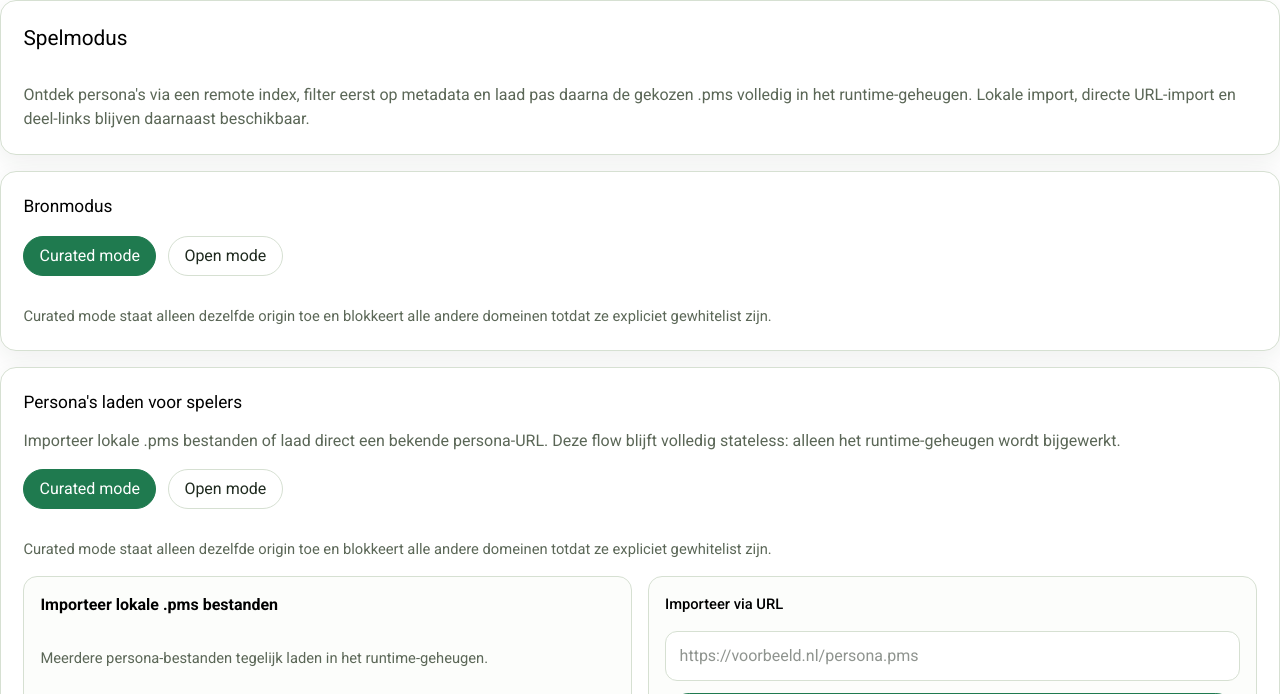
Test: GameModePage remote discovery › laadt remote index, filtert metadata en haalt pas na selectie de persona op
This screenshot has width=1280, height=694.
Click the button "Open mode" below "Bronmodus". click: x=225, y=256
box: x1=168 y1=236 x2=282 y2=276
(page scrolled)
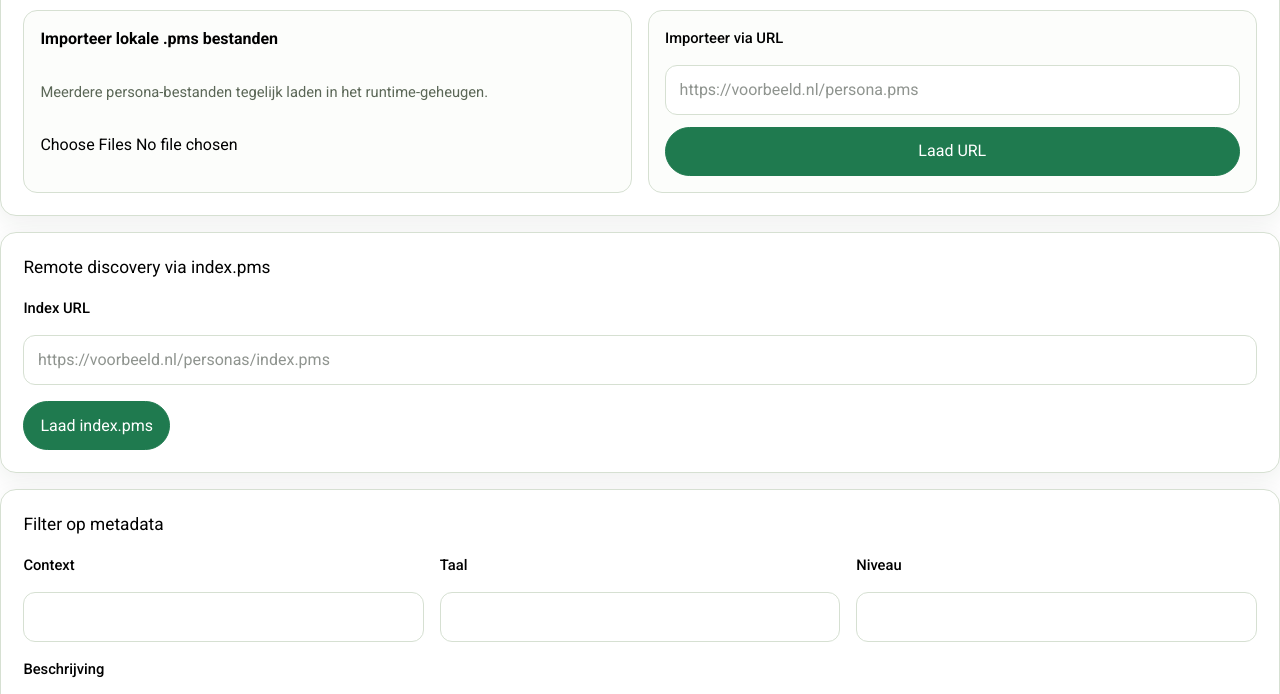
Type "https://partner.example/index.pms" into the field labelled "Index URL". click: x=640, y=360
box: x1=23 y1=335 x2=1257 y2=385
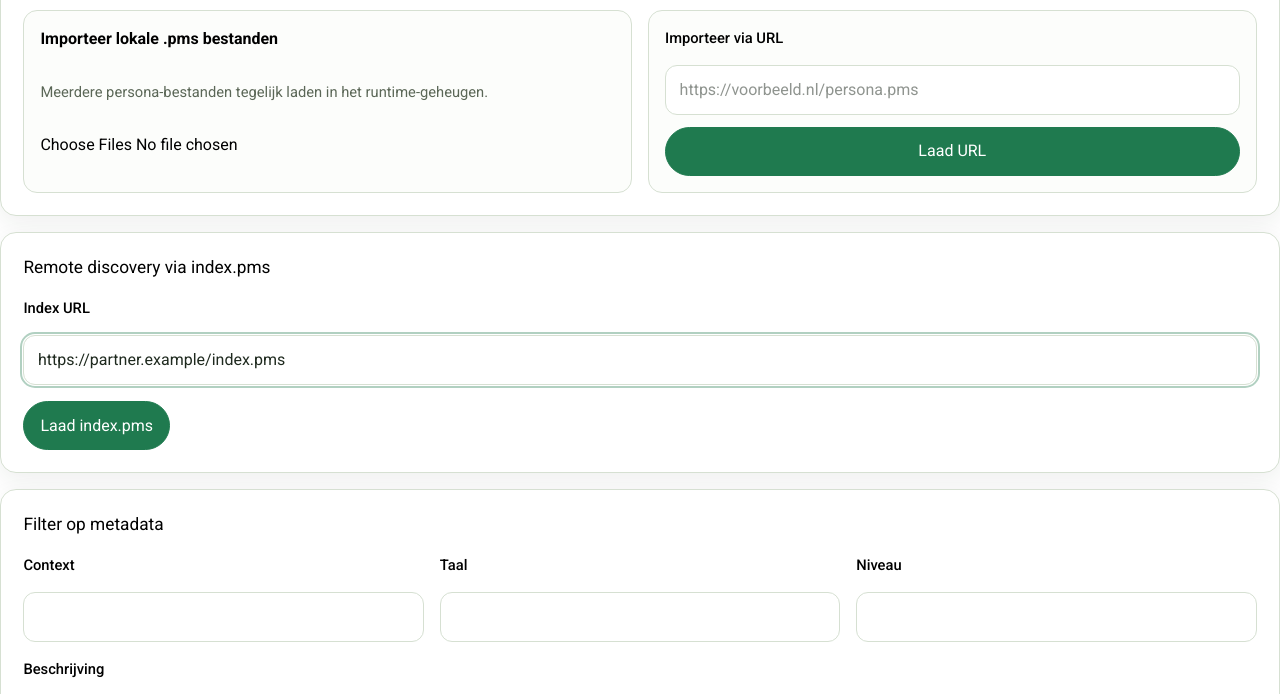
Click the button "Laad index.pms". click: x=97, y=426
box: x1=23 y1=401 x2=170 y2=450
(page scrolled)
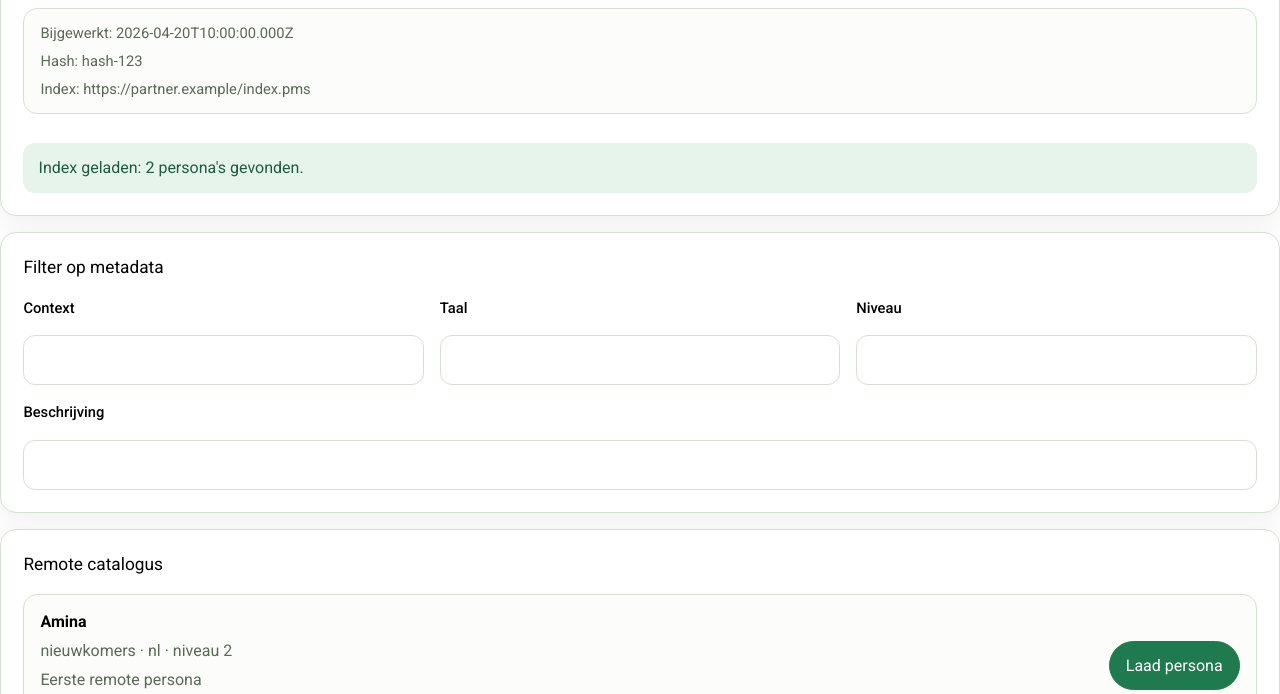
expect the text "Index geladen: 2 persona's gevonden." is shown: met, box x1=23 y1=143 x2=1257 y2=193
Type "nieuwkomers" into the field labelled "Context". click: x=224, y=360
box: x1=23 y1=336 x2=424 y2=386
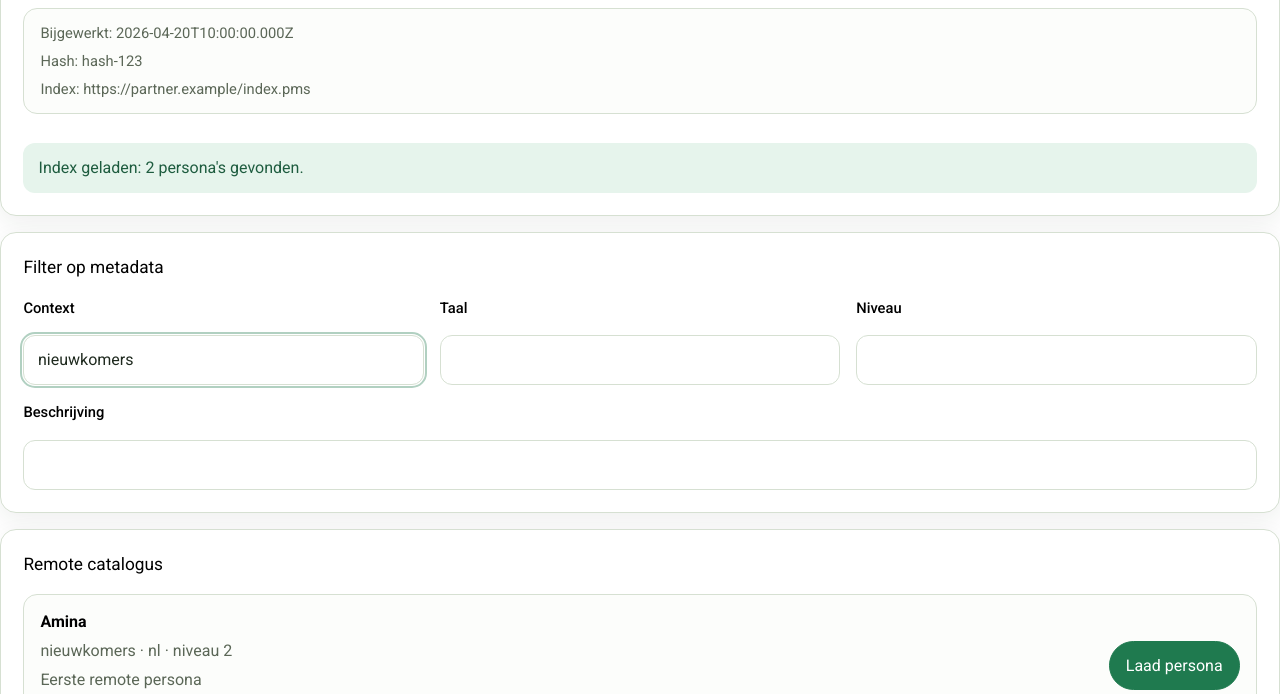
expect the text "Amina" is shown: met, box x1=40 y1=612 x2=86 y2=631
Click the button "Laad persona". click: x=1174, y=666
box: x1=1109 y1=641 x2=1240 y2=690
(page scrolled)
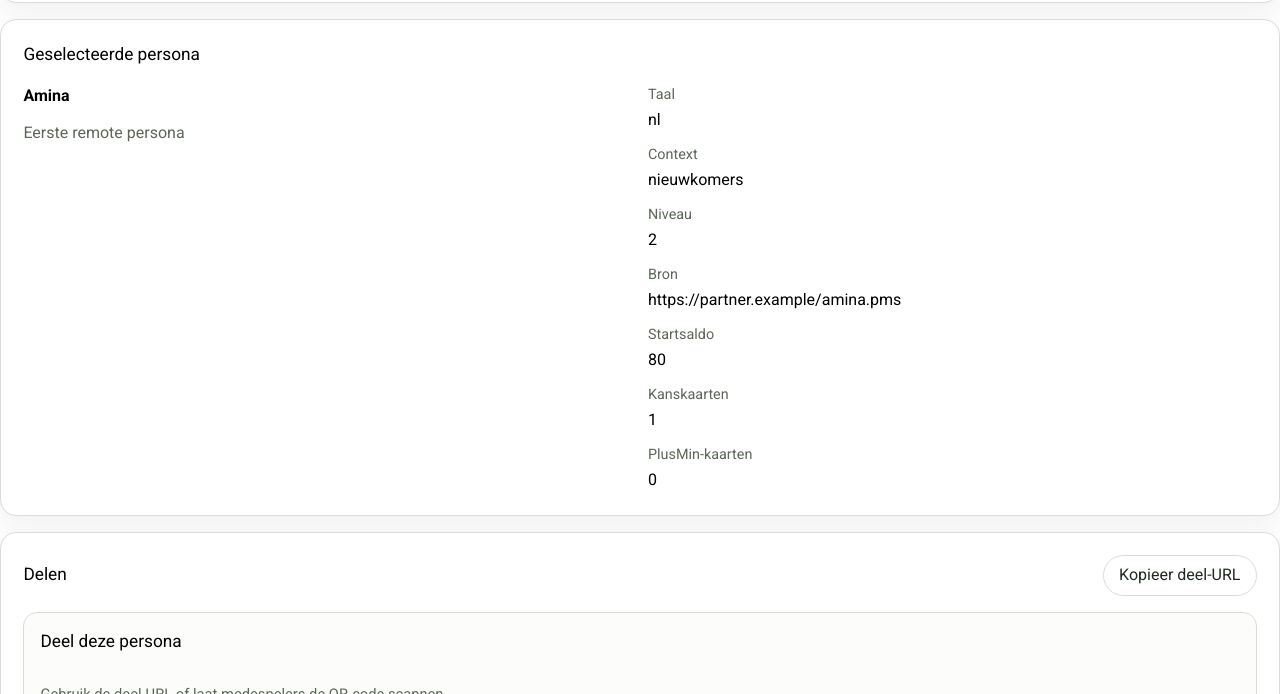
expect the text "Startsaldo" is shown: met, box x1=648 y1=326 x2=714 y2=343
expect the text "80" is shown: met, box x1=648 y1=350 x2=666 y2=369
